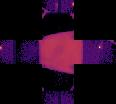earth: (38, 30, 83, 74)
